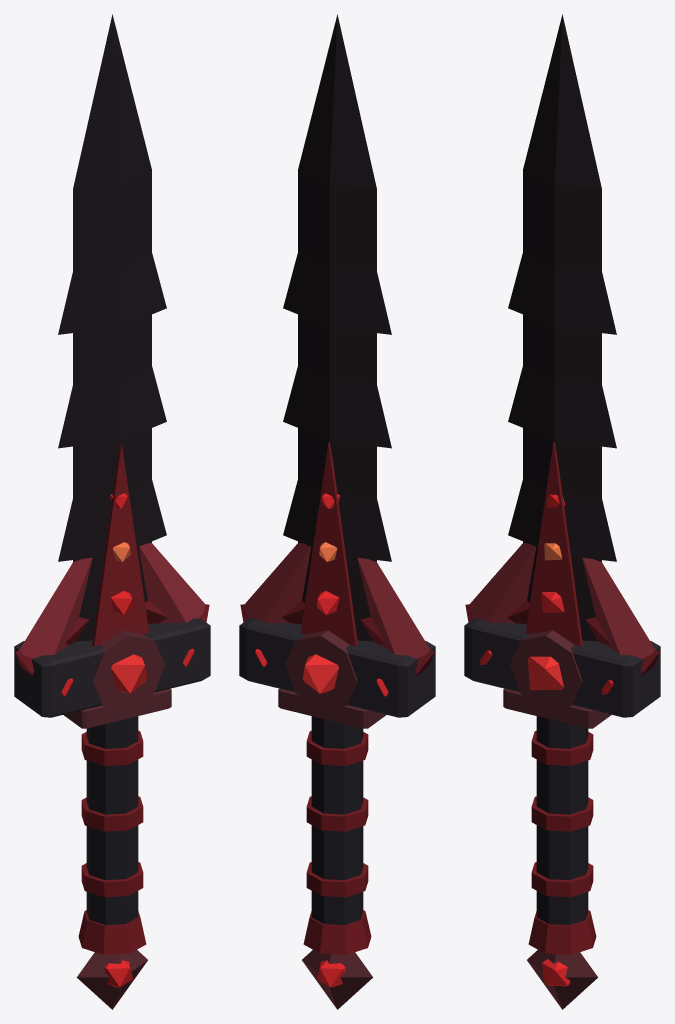
The model's file is Sword_Phase3.fbx.
3 renders of one model, left to right at view 1: azimuth 30°, elevation 25°; view 2: azimuth 150°, elevation 25°; view 3: azimuth 330°, elevation 25°, orthographic.
Visible parts, largest first — view 1: Sword_Phase3_Blade, Sword_Phase3_Guard, Sword_Phase3_Grip, Sword_Phase3_Trim, Sword_Phase3_Horn, Sword_Phase3_Band, Sword_Phase3_Inlay, Sword_Phase3_Glow, Sword_Phase3_Eye, Sword_Phase3_Wing; view 2: Sword_Phase3_Blade, Sword_Phase3_Guard, Sword_Phase3_Grip, Sword_Phase3_Trim, Sword_Phase3_Horn, Sword_Phase3_Band, Sword_Phase3_Inlay, Sword_Phase3_Glow, Sword_Phase3_Eye, Sword_Phase3_Wing; view 3: Sword_Phase3_Blade, Sword_Phase3_Guard, Sword_Phase3_Grip, Sword_Phase3_Trim, Sword_Phase3_Horn, Sword_Phase3_Band, Sword_Phase3_Inlay, Sword_Phase3_Glow, Sword_Phase3_Eye, Sword_Phase3_Wing.
Boxes of the visible parts, <box> form: Sword_Phase3_Blade: <box>58,14,166,641</box>; Sword_Phase3_Guard: <box>14,618,210,717</box>; Sword_Phase3_Grip: <box>86,716,138,925</box>; Sword_Phase3_Trim: <box>63,630,171,1009</box>; Sword_Phase3_Horn: <box>20,543,205,658</box>; Sword_Phase3_Band: <box>78,730,146,954</box>; Sword_Phase3_Inlay: <box>92,442,149,646</box>; Sword_Phase3_Glow: <box>61,493,194,987</box>; Sword_Phase3_Eye: <box>111,654,146,693</box>; Sword_Phase3_Wing: <box>15,600,209,675</box>; Sword_Phase3_Blade: <box>283,14,391,641</box>; Sword_Phase3_Guard: <box>239,618,435,717</box>; Sword_Phase3_Grip: <box>311,716,363,925</box>; Sword_Phase3_Trim: <box>278,630,386,1009</box>; Sword_Phase3_Horn: <box>244,543,429,658</box>; Sword_Phase3_Band: <box>303,730,371,954</box>; Sword_Phase3_Inlay: <box>300,442,357,646</box>; Sword_Phase3_Glow: <box>255,493,388,987</box>; Sword_Phase3_Eye: <box>303,654,338,693</box>; Sword_Phase3_Wing: <box>240,600,434,675</box>; Sword_Phase3_Blade: <box>508,14,616,641</box>; Sword_Phase3_Guard: <box>464,618,660,717</box>; Sword_Phase3_Grip: <box>536,716,588,925</box>; Sword_Phase3_Trim: <box>503,630,611,1009</box>; Sword_Phase3_Horn: <box>469,543,654,658</box>; Sword_Phase3_Band: <box>528,730,596,954</box>; Sword_Phase3_Inlay: <box>525,442,582,646</box>; Sword_Phase3_Glow: <box>480,494,613,986</box>; Sword_Phase3_Eye: <box>528,656,563,690</box>; Sword_Phase3_Wing: <box>465,600,659,675</box>.
Size of the model in its own units: 1.08 by 5.31 by 0.4849.
